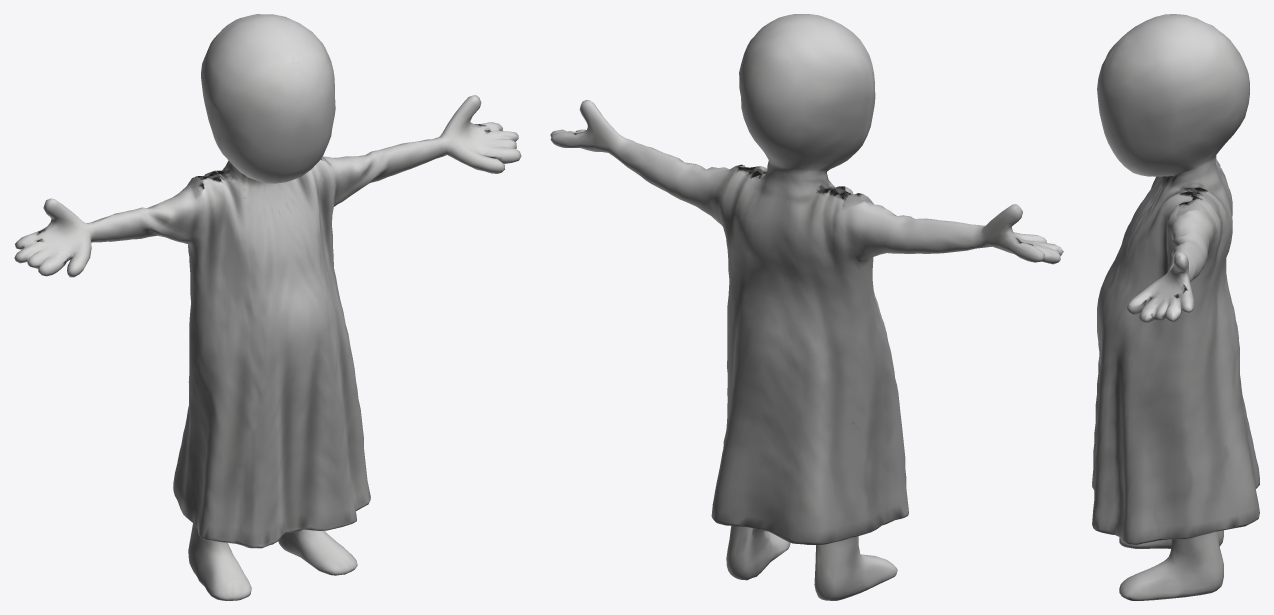
File: ghost.glb
The picture shows the model from 3 angles, left to right: view 1: azimuth 30°, elevation 25°; view 2: azimuth 150°, elevation 25°; view 3: azimuth 270°, elevation 25°; orthographic projection.
Bounding box in the file's own units: 1.83 × 1.91 × 0.5284.
Materials: 1 (1 with a texture image).
